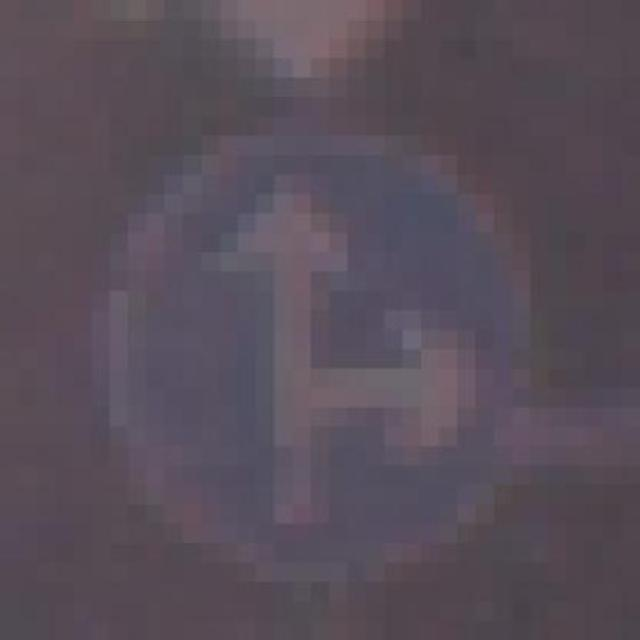Go Straight or Turn Right: (91, 97, 567, 601)
